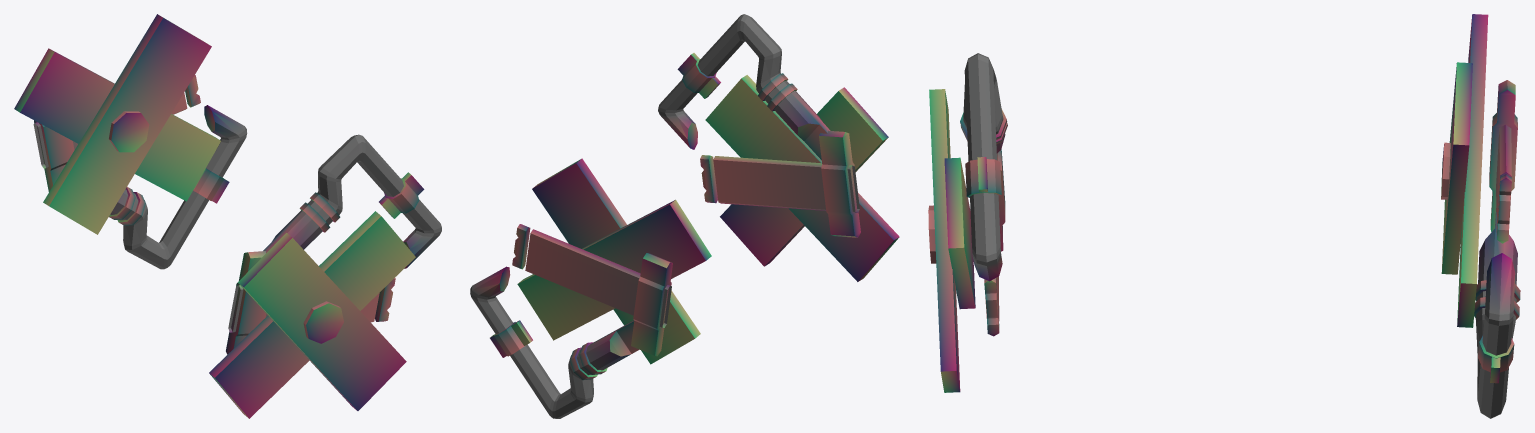
Rendered from Eff_GoblinWeapon_01.fbx.
The picture shows the model from 3 angles, left to right: view 1: azimuth 30°, elevation 25°; view 2: azimuth 150°, elevation 25°; view 3: azimuth 270°, elevation 25°; orthographic projection. The views are drawn at different scales.
Parts seen in each view (by area): view 1: Weapon_R, Weapon_L; view 2: Weapon_R, Weapon_L; view 3: Weapon_L, Weapon_R.
Boxes of the visible parts, bbox=[...] form: Weapon_R: bbox=[209, 134, 441, 418]; Weapon_L: bbox=[14, 14, 247, 269]; Weapon_R: bbox=[658, 14, 899, 281]; Weapon_L: bbox=[470, 158, 711, 418]; Weapon_L: bbox=[1441, 14, 1520, 418]; Weapon_R: bbox=[928, 53, 1007, 392].
Size of the model in its own units: 0.9967 by 1.11 by 1.63.
